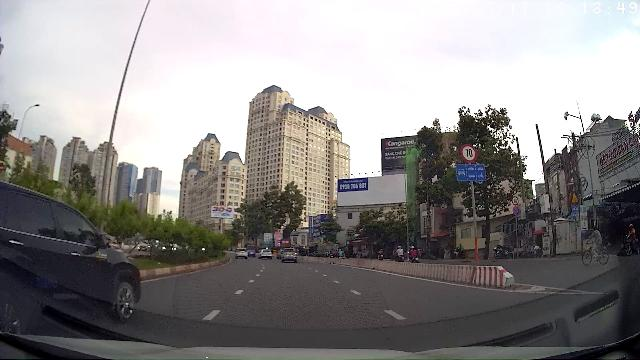127-toc-do-toi-da-60: (512, 196, 519, 206)
127-toc-do-toi-da-70: (460, 143, 478, 163)
